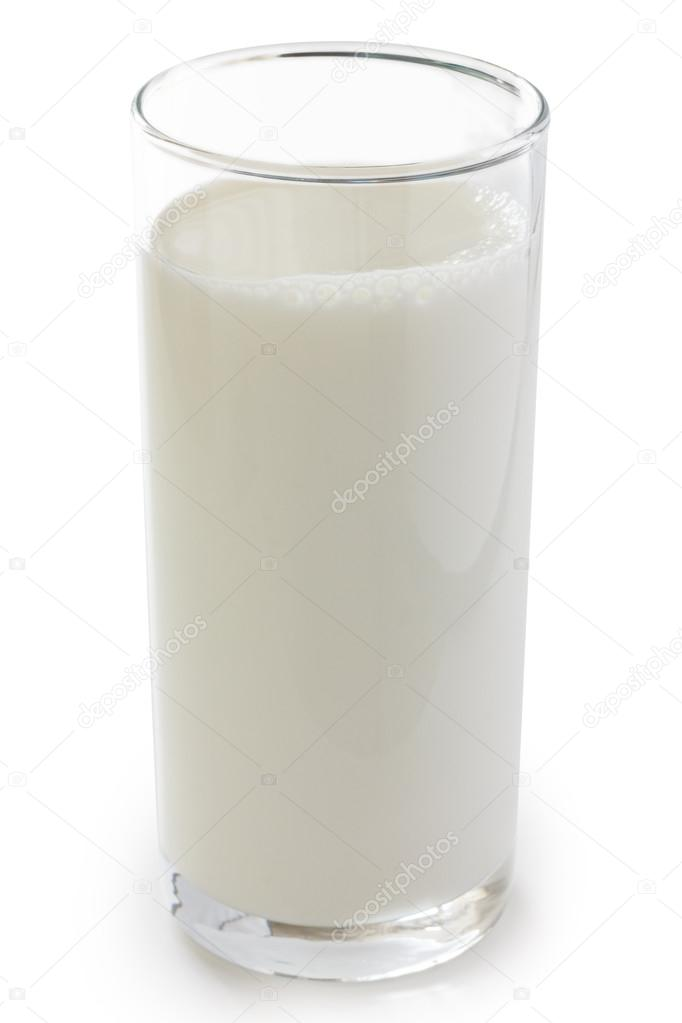glass of milk: (135, 113, 513, 971)
